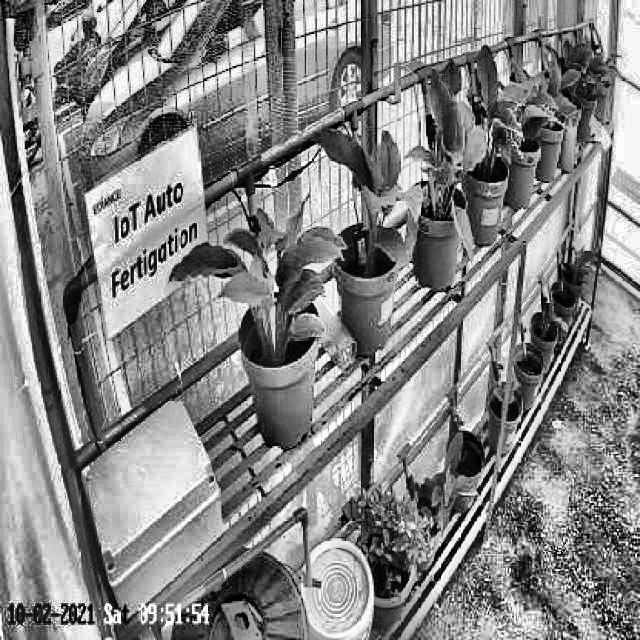plants: (169, 182, 345, 360), (309, 123, 423, 271), (398, 60, 473, 262), (446, 44, 526, 176)
